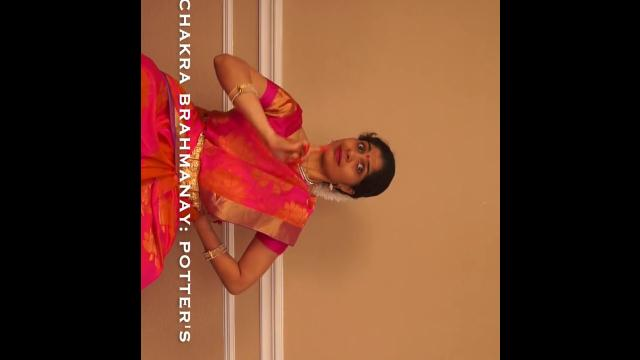soochi: (258, 129, 330, 173)
